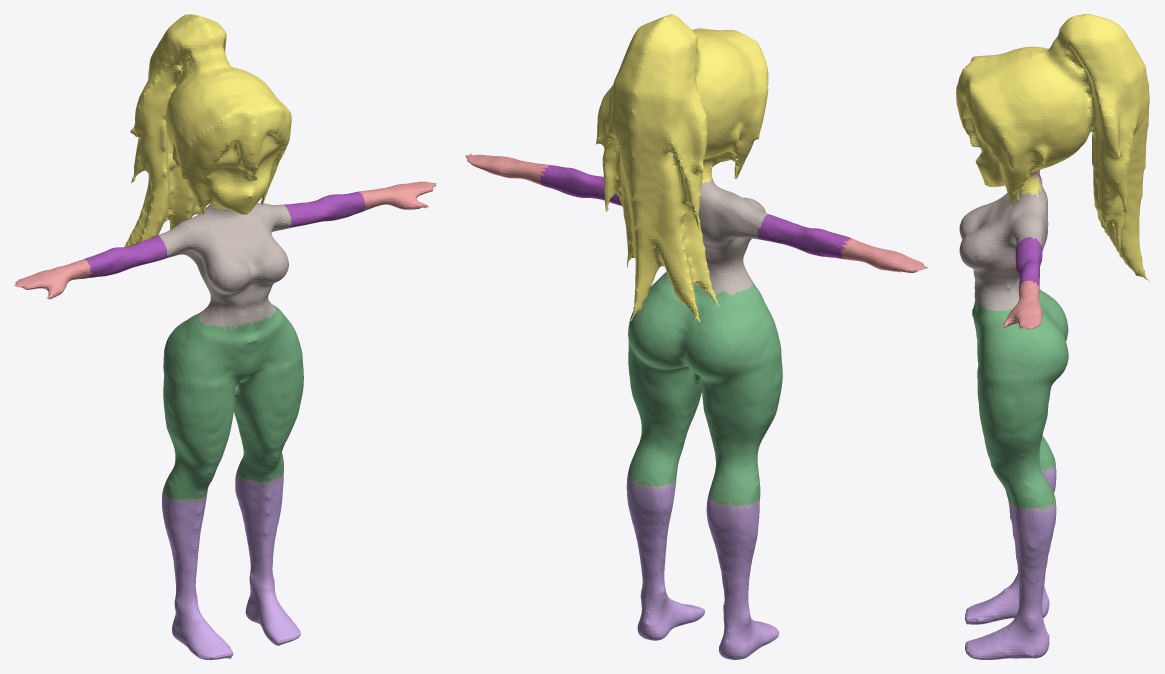
Rendered from character_separated_capped_v2.glb.
3 renders of one model, left to right at view 1: azimuth 30°, elevation 25°; view 2: azimuth 150°, elevation 25°; view 3: azimuth 270°, elevation 25°, orthographic. The views are drawn at different scales.
Visible parts, largest first — view 1: world; view 2: world; view 3: world.
Boxes of the visible parts, x1,y1,x2,y2 form: world: (14,14,436,659); world: (465,14,927,659); world: (956,14,1150,659).
Size of the model in its own units: 1.46 by 1.96 by 0.5555.
